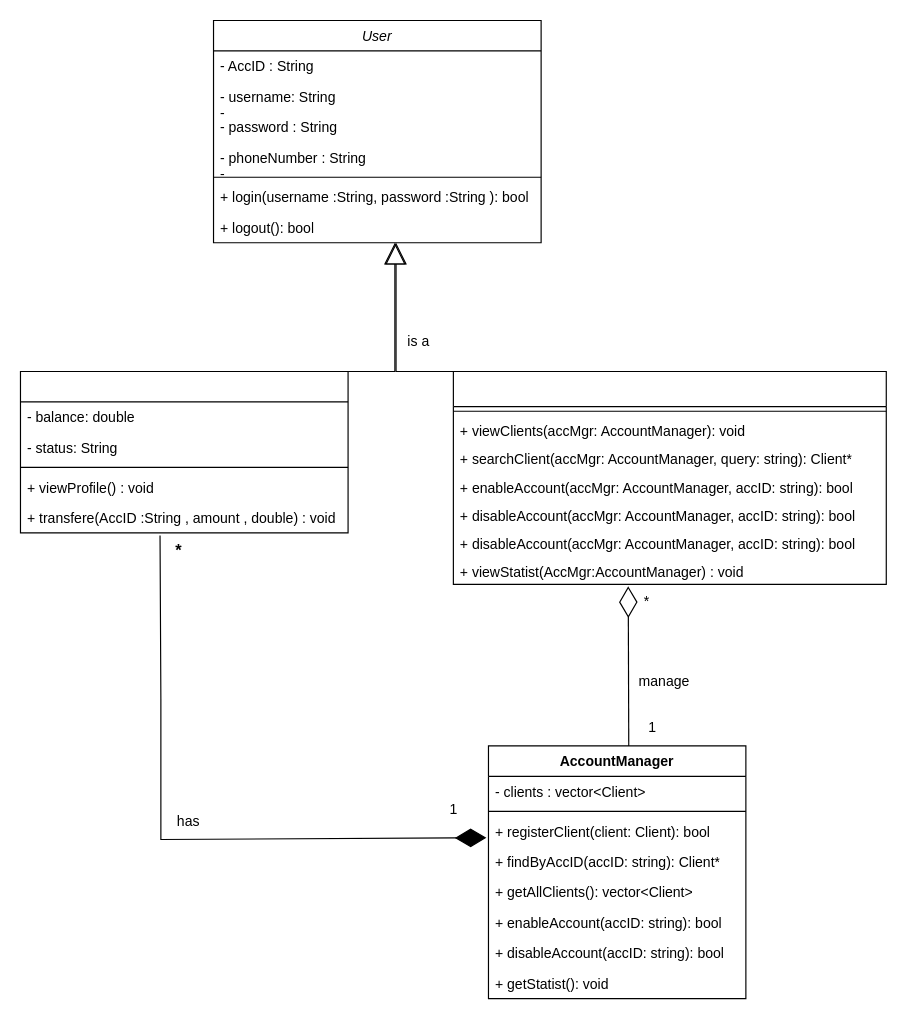
This 907x1023 diagram has some shape labels left out. The shapes that lost their labels are listed below. From the top down, each one's box as (x1, y1, x2, y2) in pixels, then its label:
(19, 370, 348, 533): Client
(452, 370, 886, 584): Admin
